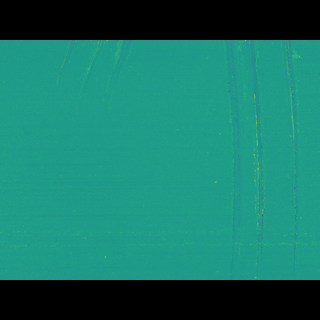Loch: (217, 69, 308, 251), (50, 69, 139, 131)
